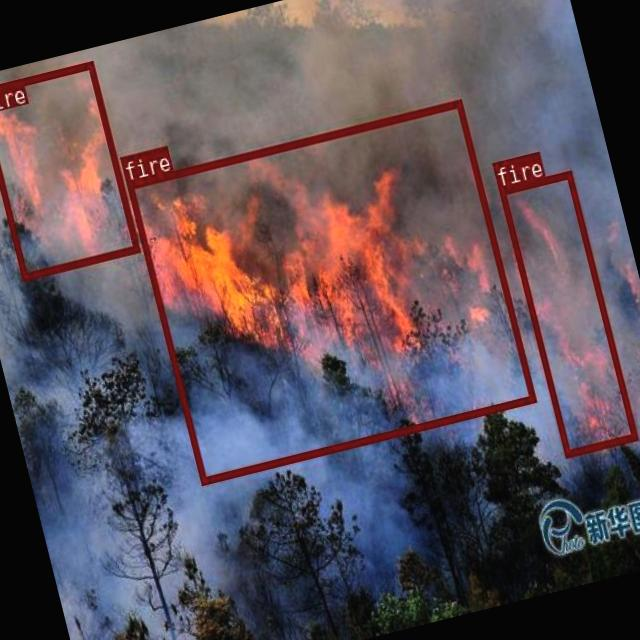fire: (125, 99, 536, 484), (496, 170, 636, 456), (0, 59, 137, 279)
